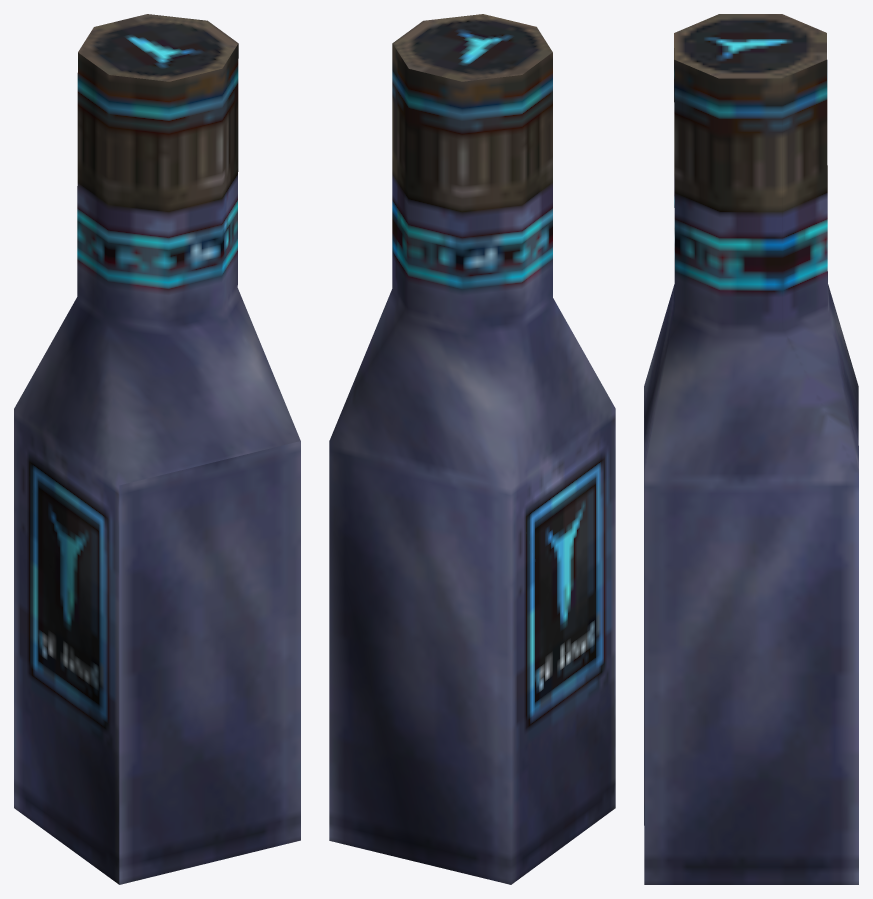
Rendered from ALK1.glb.
3 renders of one model, left to right at view 1: azimuth 30°, elevation 25°; view 2: azimuth 150°, elevation 25°; view 3: azimuth 270°, elevation 25°, orthographic. The views are drawn at different scales.
Parts seen in each view (by area): view 1: out; view 2: out; view 3: out.
Part boxes in pixels (box(x1,y1,x2,y2)): out: box(14, 14, 300, 884); out: box(329, 14, 615, 884); out: box(644, 14, 858, 884).
Bounding box in the file's own units: 8.52 × 34.75 × 8.53.
Materials: 1 (1 with a texture image).
